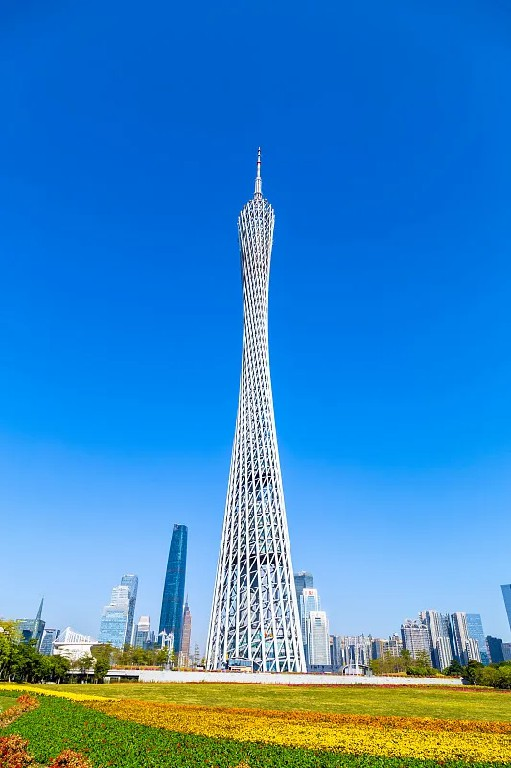Canton: (205, 143, 309, 668)
